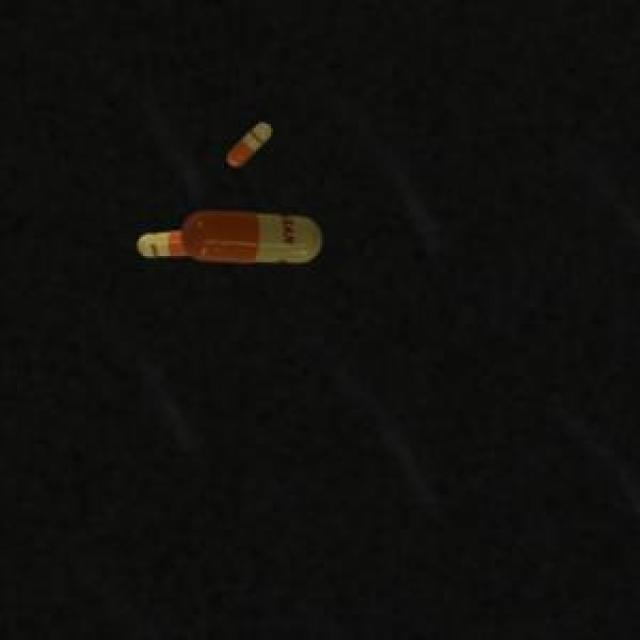Alaxan: (131, 203, 330, 278), (210, 115, 282, 175)
